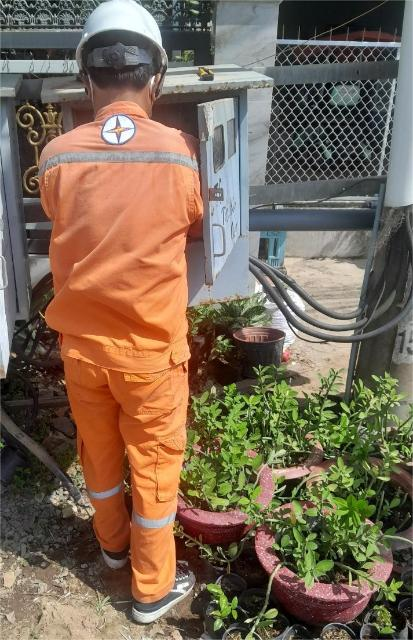helmet: (61, 0, 194, 102)
shoes: (125, 572, 212, 620), (78, 505, 135, 576)
